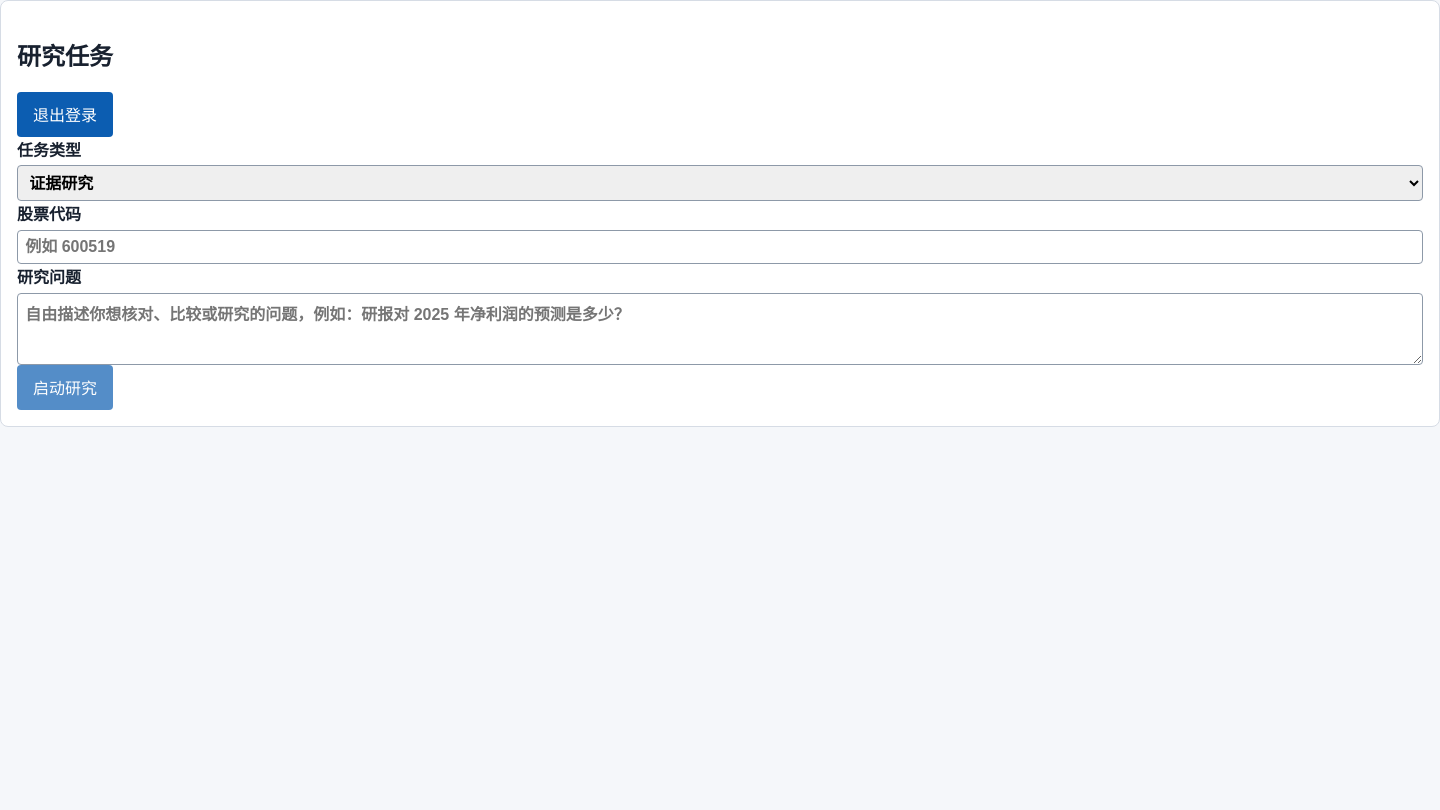
Test: agent run panel › stops the previous create subscription when a new run starts
Type "600519" into the field labelled "股票代码" at {"x": 720, "y": 247}, box 17,230 -> 1423,264
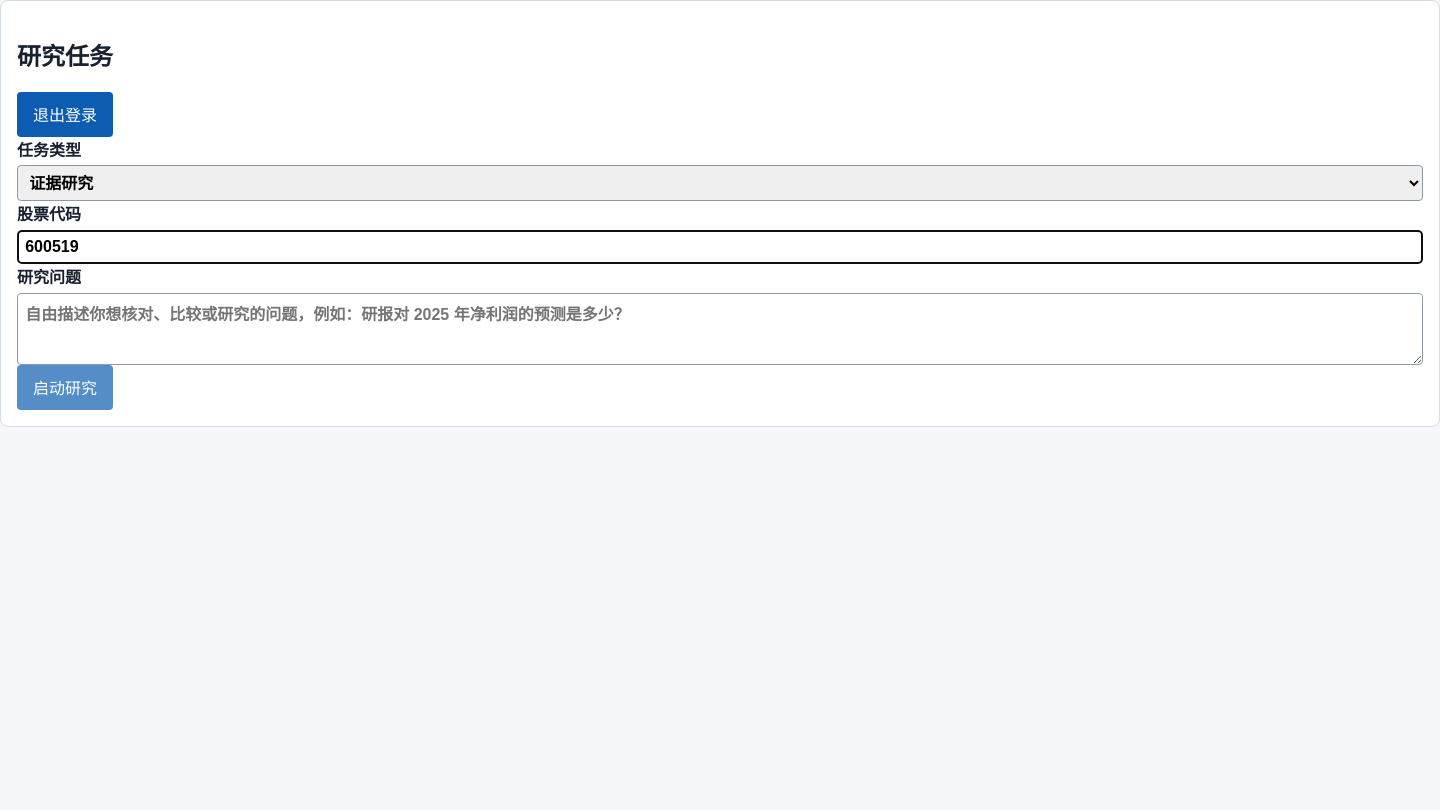
Type "第一个任务" into the text box labelled "研究问题" at {"x": 720, "y": 329}, box 17,293 -> 1423,365
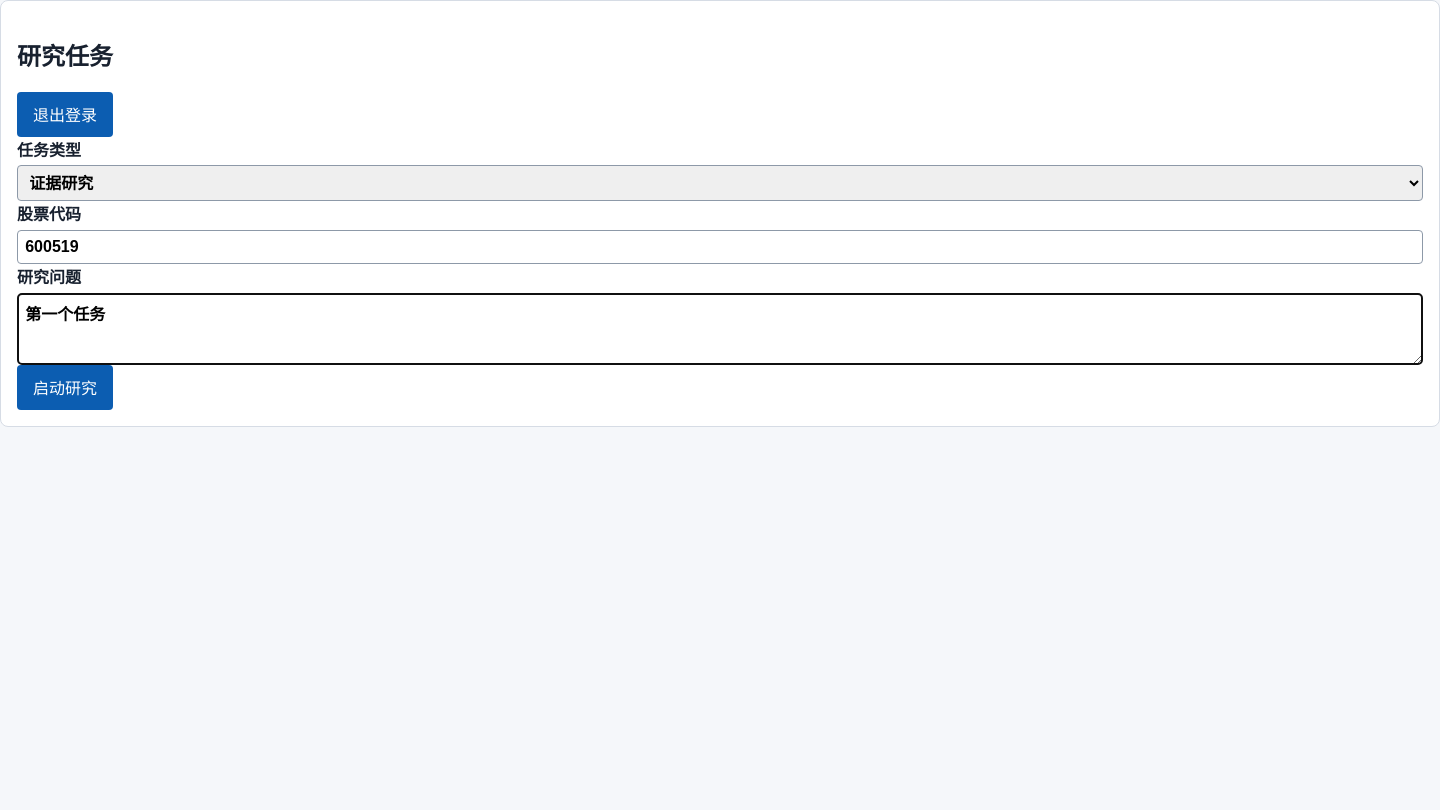
Click the button "启动研究" at {"x": 65, "y": 387}, box 17,365 -> 113,410
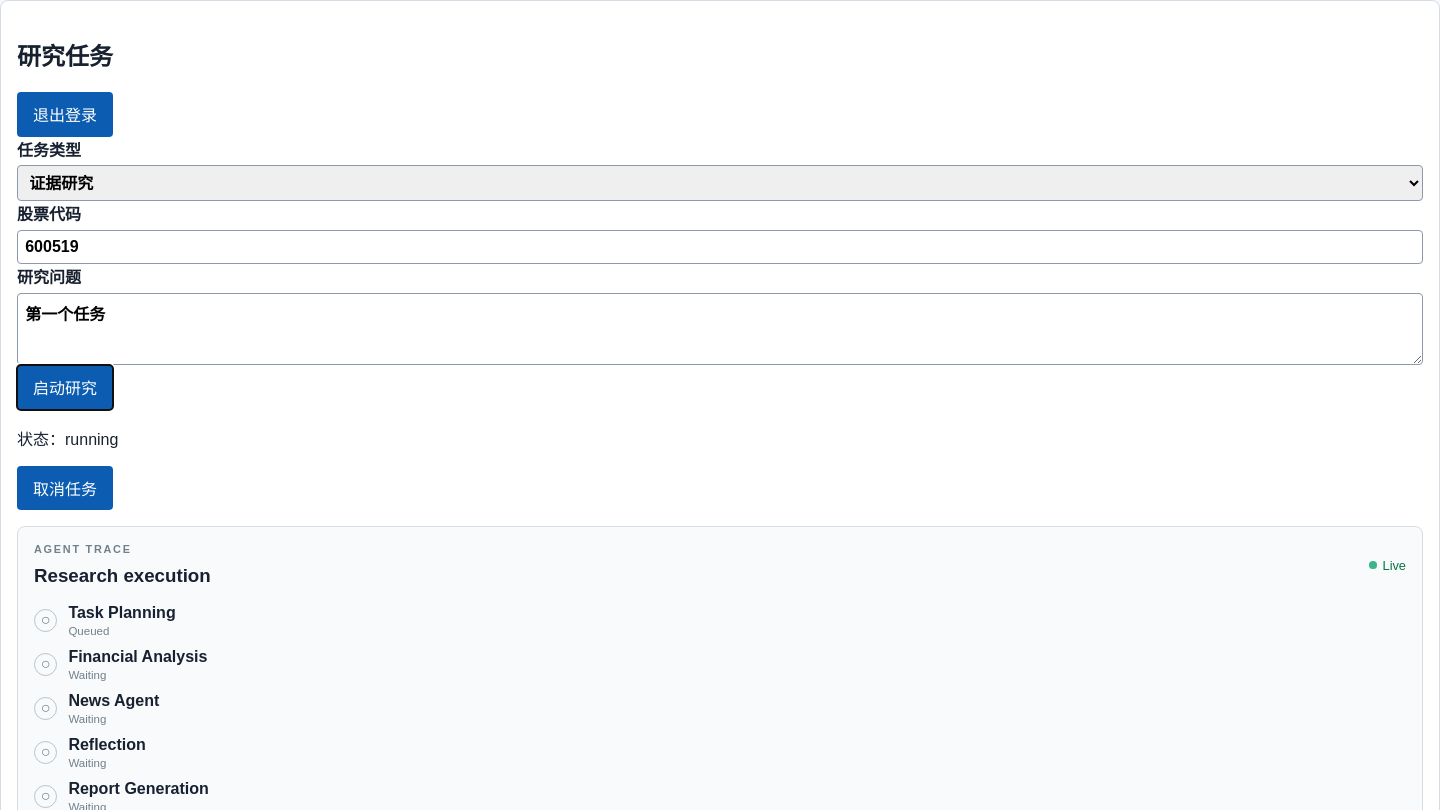
Check: the text "状态：running" is shown, box 17,430 -> 118,448
Replace the text in the text box labelled "研究问题" with "第二个任务" at {"x": 720, "y": 329}, box 17,293 -> 1423,365
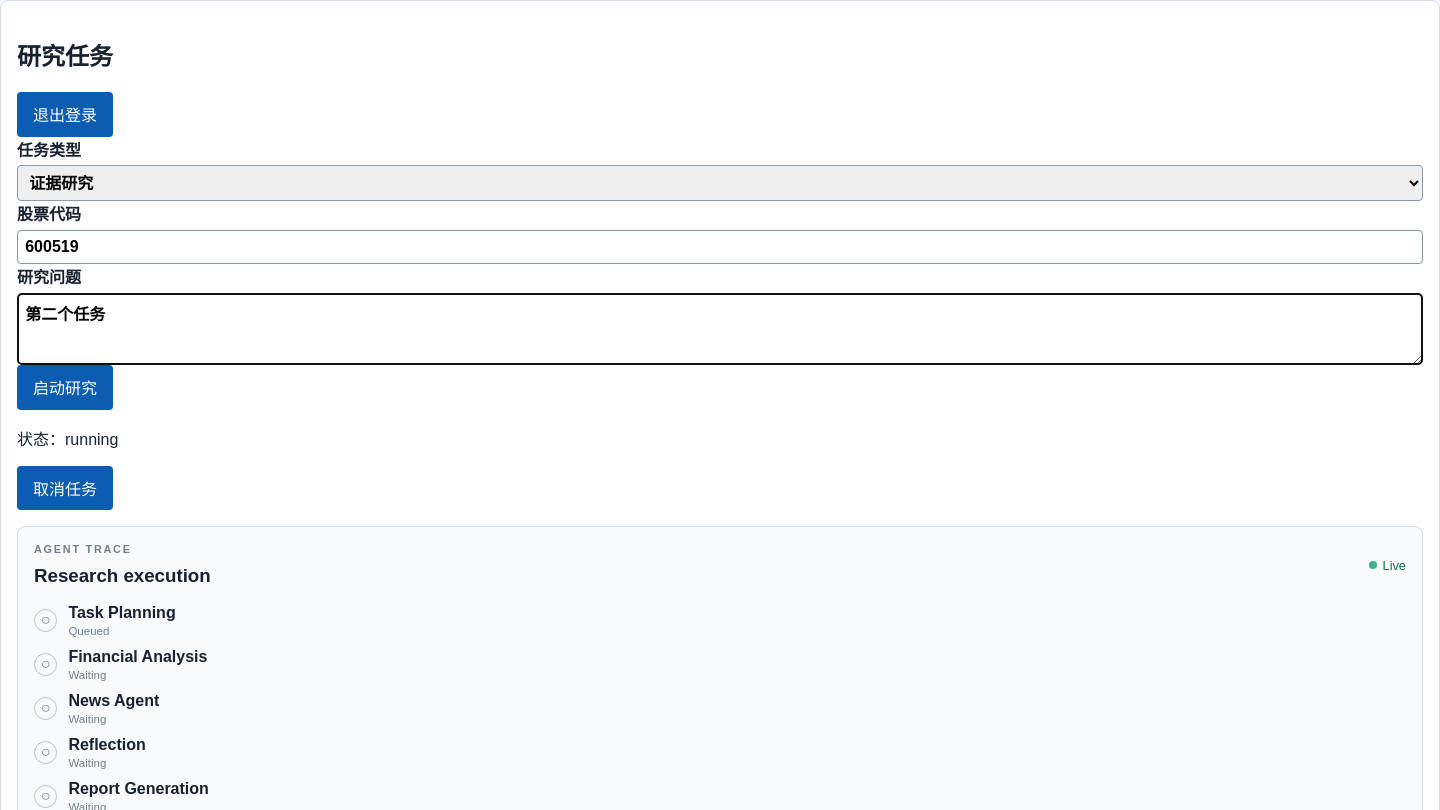
Click the button "启动研究" at {"x": 65, "y": 387}, box 17,365 -> 113,410
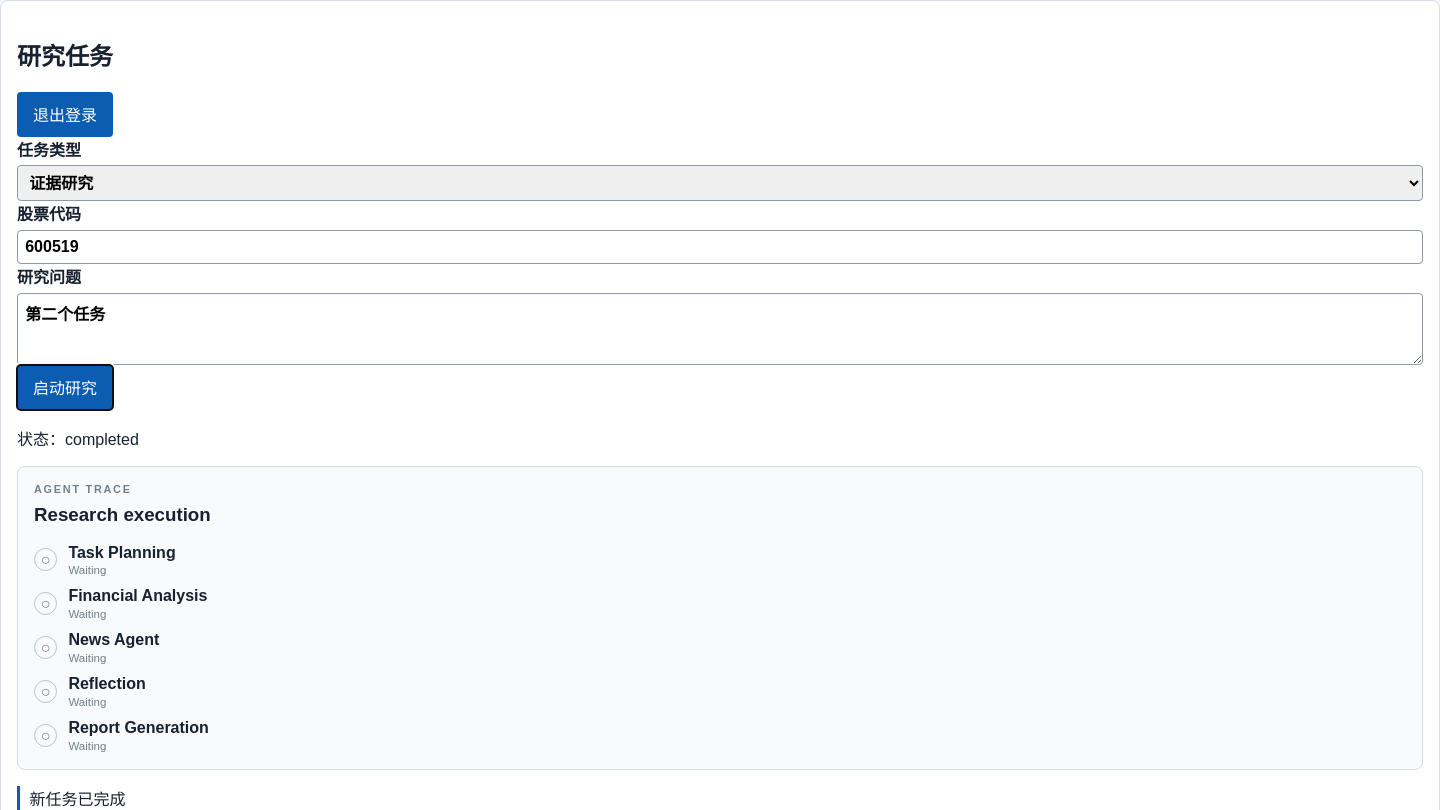
Check: the text "新任务已完成" is shown, box 17,786 -> 1423,809
